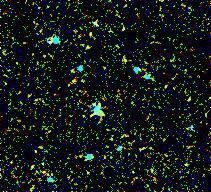star: (109, 46, 139, 76)
